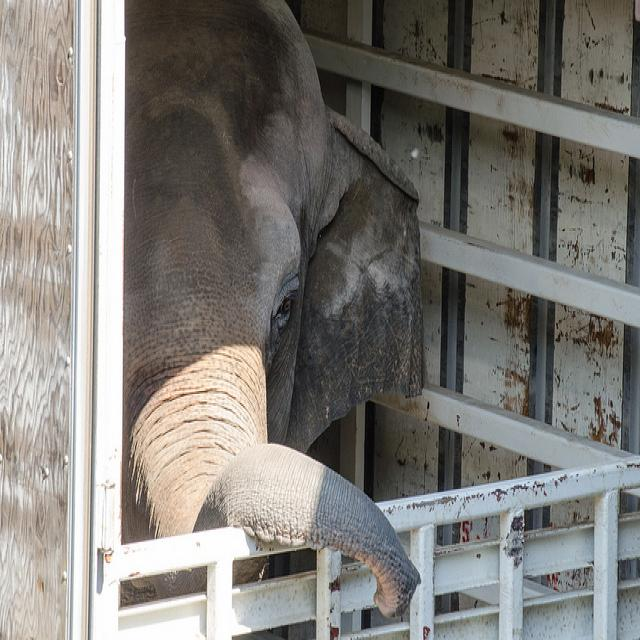Vehicle: (0, 1, 639, 630)
